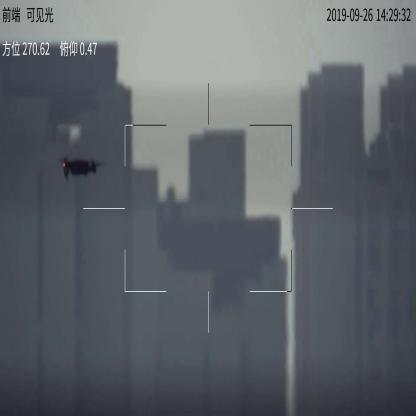uav: (56, 154, 108, 180)
